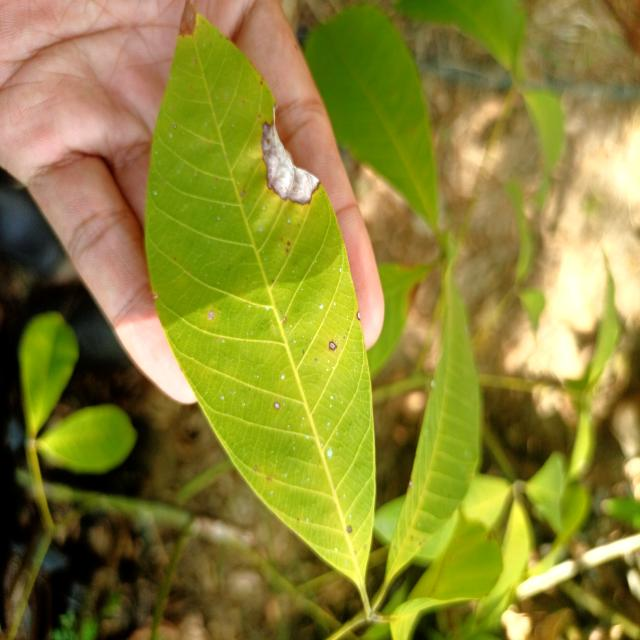Colletotrichum: (329, 341, 337, 351), (346, 525, 353, 533), (356, 312, 361, 321), (274, 402, 280, 409), (283, 317, 286, 323), (287, 242, 290, 246)
Leaf-Blight: (262, 120, 319, 205), (179, 0, 197, 37)
